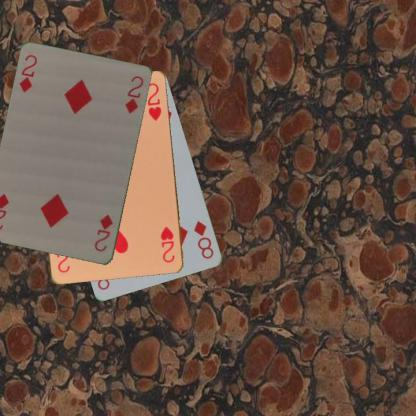2d: (16, 52, 38, 94), (92, 212, 114, 253)
2h: (158, 224, 176, 264)
8d: (191, 218, 215, 260)
